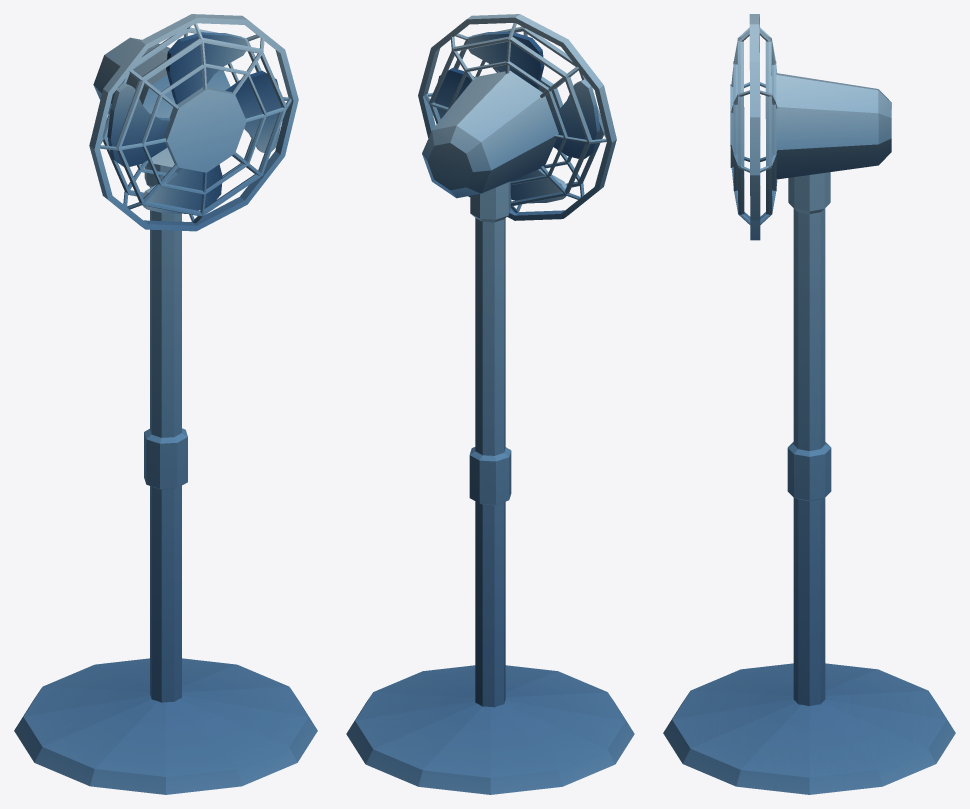
The model's file is SM_bigFan.fbx.
The picture shows the model from 3 angles, left to right: view 1: azimuth 30°, elevation 25°; view 2: azimuth 150°, elevation 25°; view 3: azimuth 270°, elevation 25°; orthographic projection. The views are drawn at different scales.
Visible parts, largest first — view 1: bigFanStand, bigFanHead, bigFanBlades; view 2: bigFanStand, bigFanHead, bigFanBlades; view 3: bigFanStand, bigFanHead.
Part boxes in pixels (left/top/right/bottom): bigFanStand: left=14, top=162, right=317, bottom=794; bigFanHead: left=89, top=14, right=298, bottom=231; bigFanBlades: left=107, top=32, right=281, bottom=213; bigFanStand: left=346, top=181, right=634, bottom=794; bigFanHead: left=418, top=14, right=616, bottom=220; bigFanBlades: left=434, top=31, right=600, bottom=203; bigFanStand: left=663, top=172, right=955, bottom=794; bigFanHead: left=730, top=14, right=891, bottom=240.
Size of the model in its own units: 478 by 1278 by 478.
